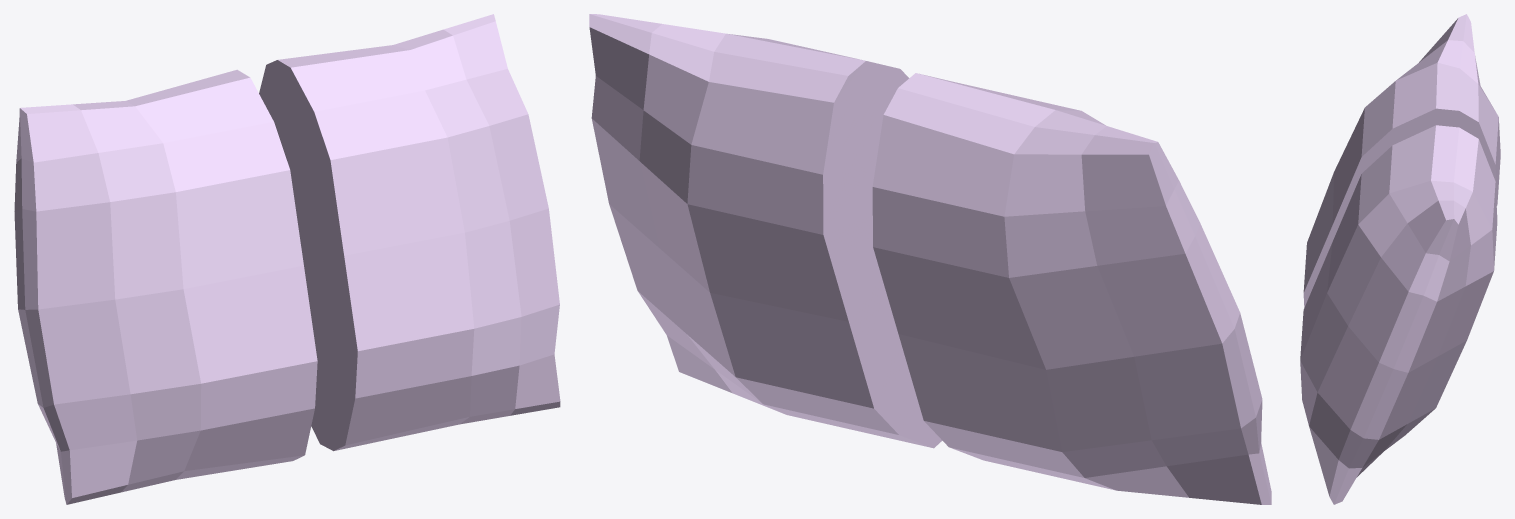
File: Pillow_chair_Cut.fbx
3 views of the same model, side by side, from view 1: azimuth 30°, elevation 25°; view 2: azimuth 150°, elevation 25°; view 3: azimuth 270°, elevation 25° (orthographic). The views are drawn at different scales.
Visible parts, largest first — view 1: Cube.023, Cube.000; view 2: Cube.023, Cube.000; view 3: Cube.000, Cube.023.
Boxes of the visible parts, x1,y1,x2,y2 form: Cube.023: [14, 69, 317, 504]; Cube.000: [259, 14, 560, 451]; Cube.023: [872, 73, 1271, 504]; Cube.000: [589, 14, 942, 448]; Cube.000: [1300, 125, 1497, 504]; Cube.023: [1303, 14, 1500, 307].
Bounding box in the file's own units: 2704 × 1797 × 1089.
